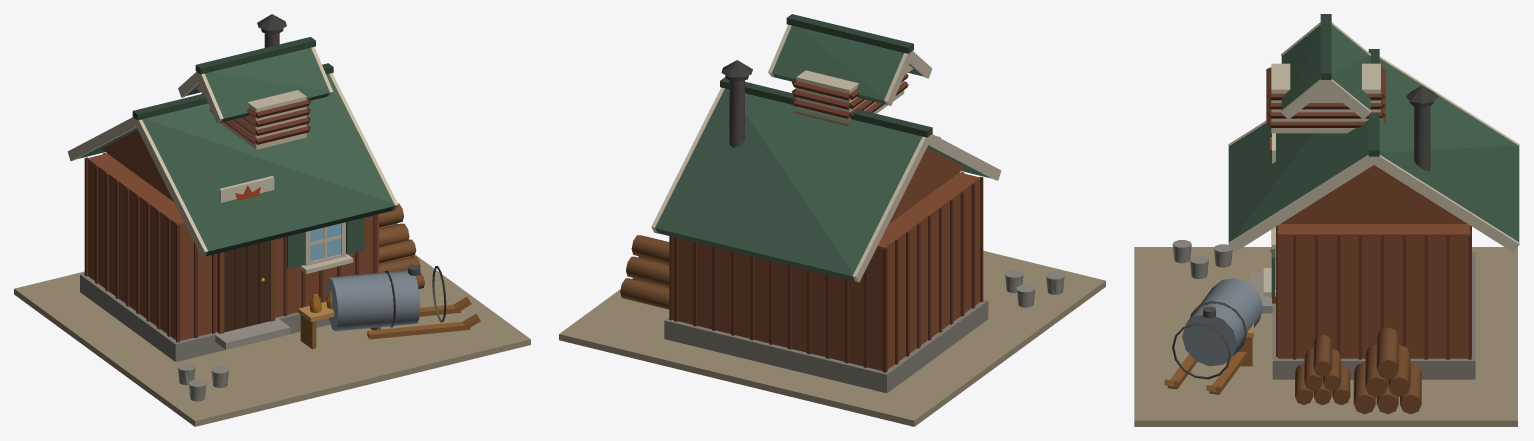
File: sugar_shack.glb
The picture shows the model from 3 angles, left to right: view 1: azimuth 30°, elevation 25°; view 2: azimuth 150°, elevation 25°; view 3: azimuth 270°, elevation 25°; orthographic projection. The views are drawn at different scales.
Visible parts, largest first — view 1: building-sugar_shack, building-sugar_shack-far; view 2: building-sugar_shack; view 3: building-sugar_shack, building-sugar_shack-far.
Part boxes in pixels (<box>): building-sugar_shack: <box>14,14,530,426</box>; building-sugar_shack-far: <box>178,19,445,398</box>; building-sugar_shack: <box>559,14,1105,426</box>; building-sugar_shack: <box>1134,14,1519,426</box>; building-sugar_shack-far: <box>1172,88,1421,413</box>.
Bounding box in the file's own units: 6 × 4.63 × 5.63.
